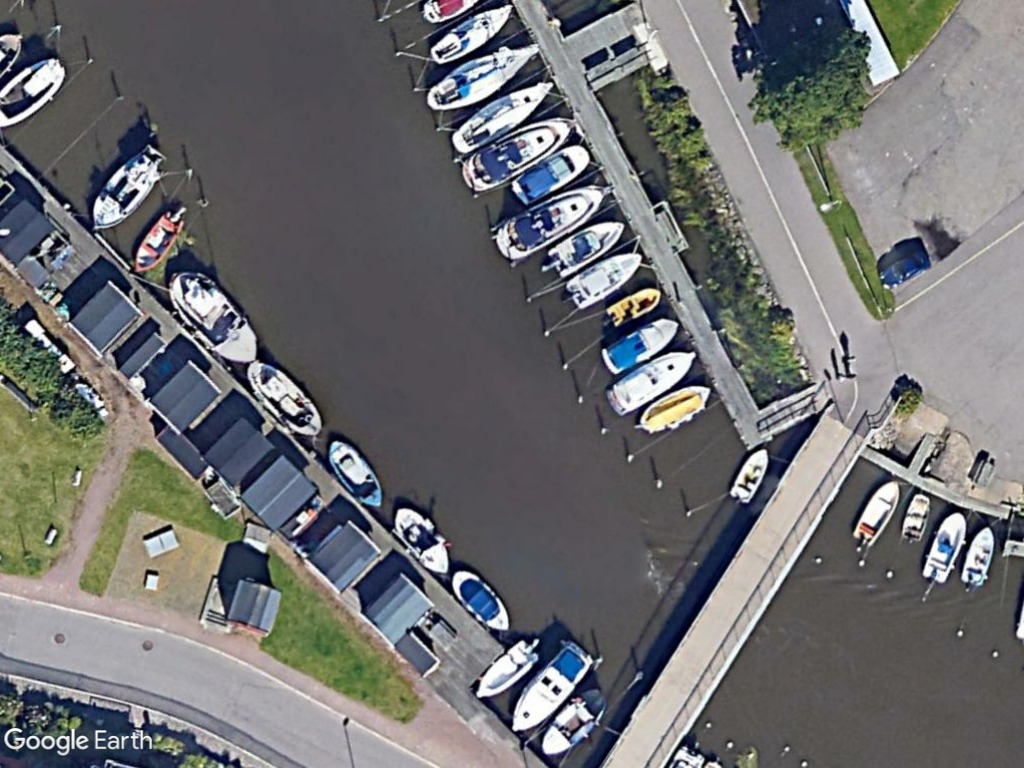boat: (460, 113, 580, 197), (489, 181, 610, 264), (421, 36, 545, 116), (165, 264, 259, 365), (503, 635, 594, 735), (446, 75, 557, 156), (83, 138, 167, 234), (605, 347, 700, 419), (241, 357, 323, 439), (428, 1, 519, 64), (510, 140, 593, 209), (534, 684, 609, 759), (597, 313, 685, 376), (544, 215, 629, 280), (561, 246, 644, 311), (323, 434, 387, 513), (471, 636, 541, 706), (388, 500, 450, 577), (446, 563, 510, 637), (632, 381, 715, 438), (845, 476, 907, 548), (127, 205, 187, 277), (916, 506, 967, 586), (602, 283, 663, 330), (956, 523, 996, 590), (726, 444, 769, 506), (895, 491, 933, 544)
car: (872, 247, 933, 292)
